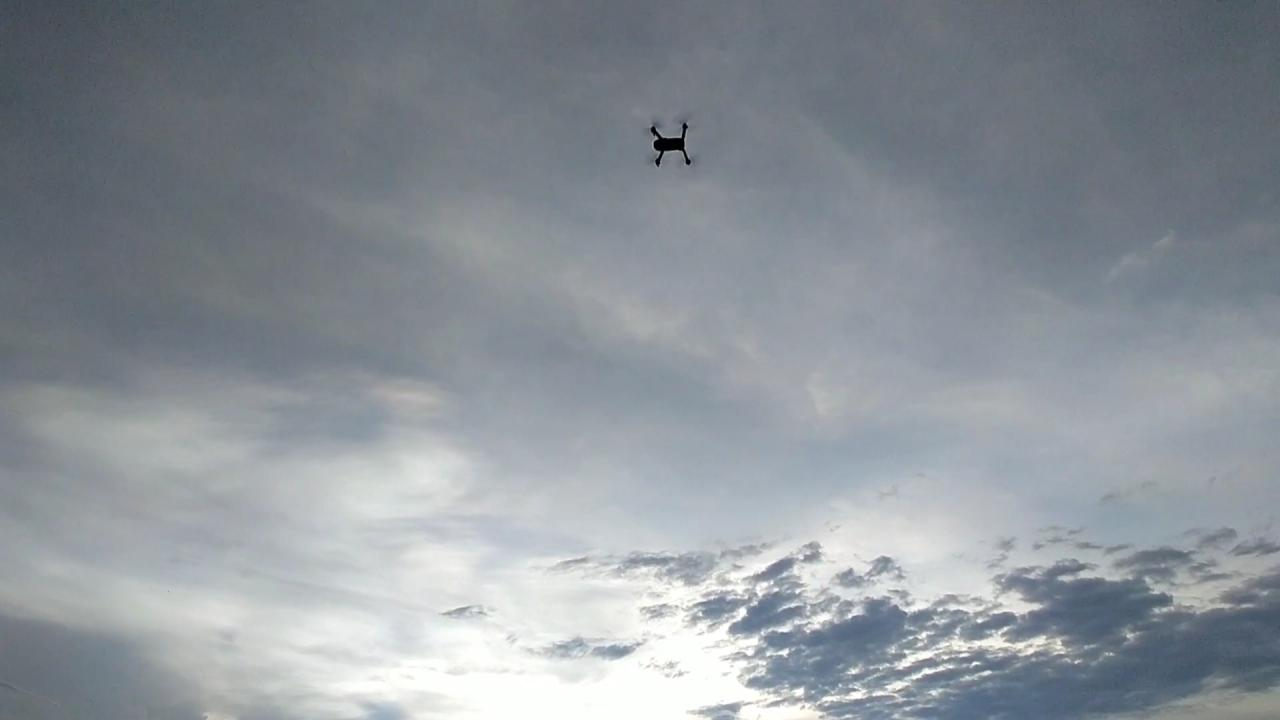Drone: (627, 103, 714, 184)
